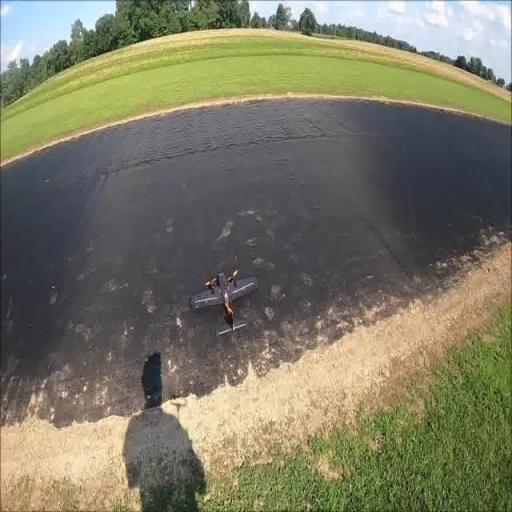uav: (186, 260, 260, 352)
